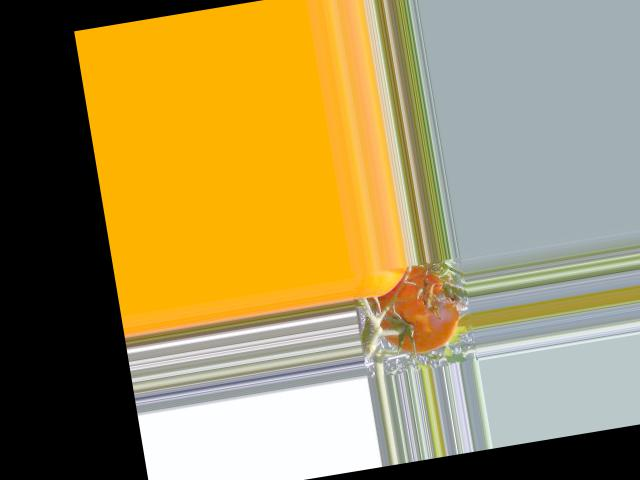tomato: (371, 260, 466, 359)
